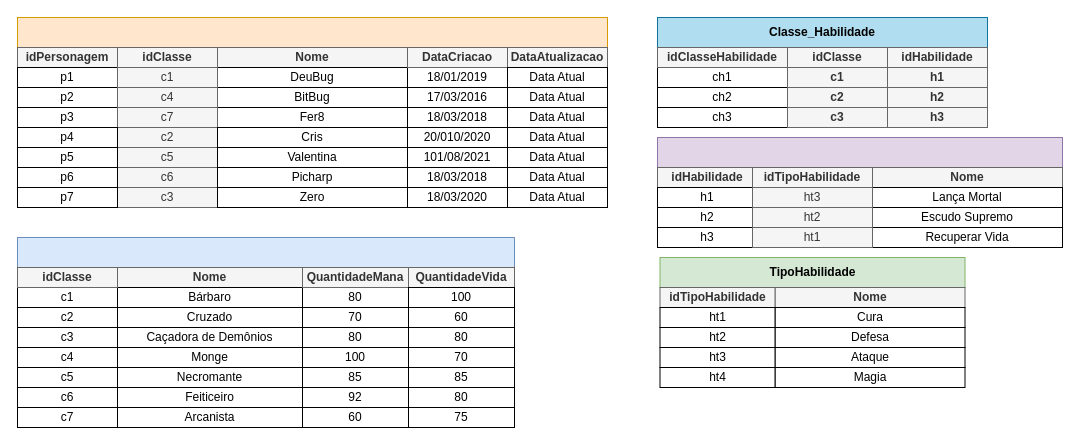
This 1080x445 diagram has some shape labels left out. The box of each missing label's shape, as (x1, y1, x2, y2) in pixels:
Classe: (16, 236, 514, 268)
Habilidade: (656, 136, 1062, 168)
Personagem: (16, 16, 608, 48)
